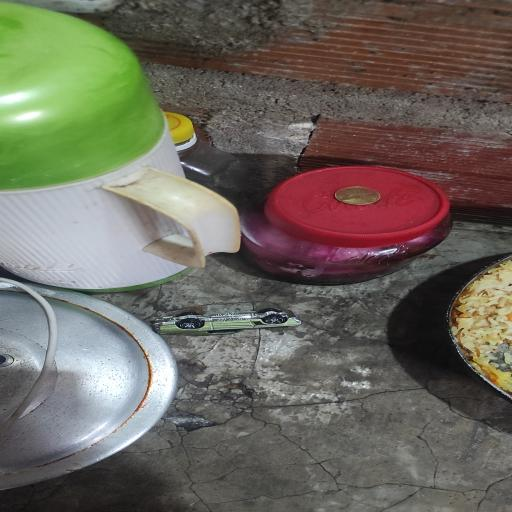Carrito: (153, 308, 301, 335)
